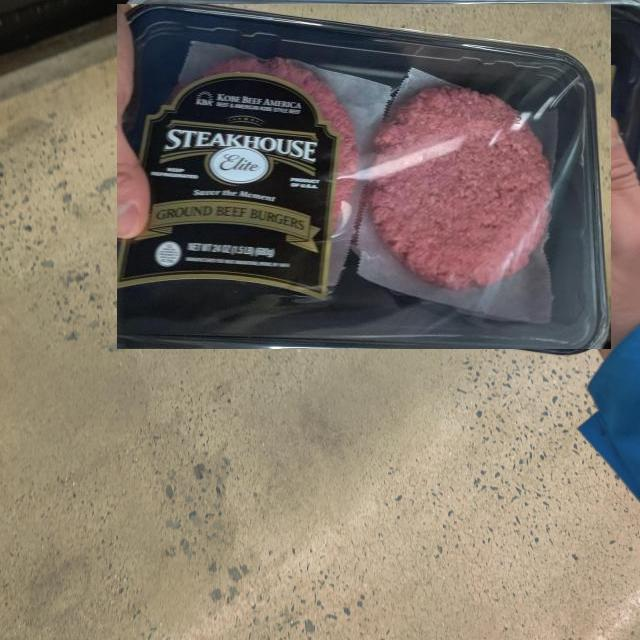Meat: (116, 4, 611, 349)
